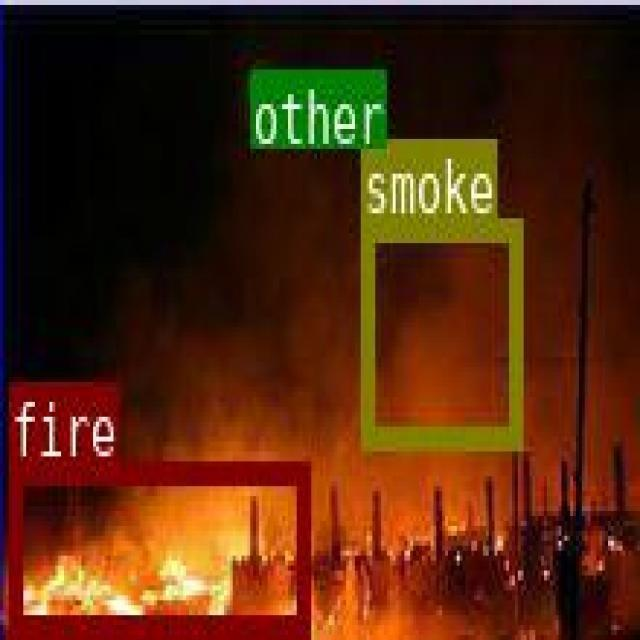fire: (7, 460, 306, 630)
smoke: (360, 214, 519, 444)
